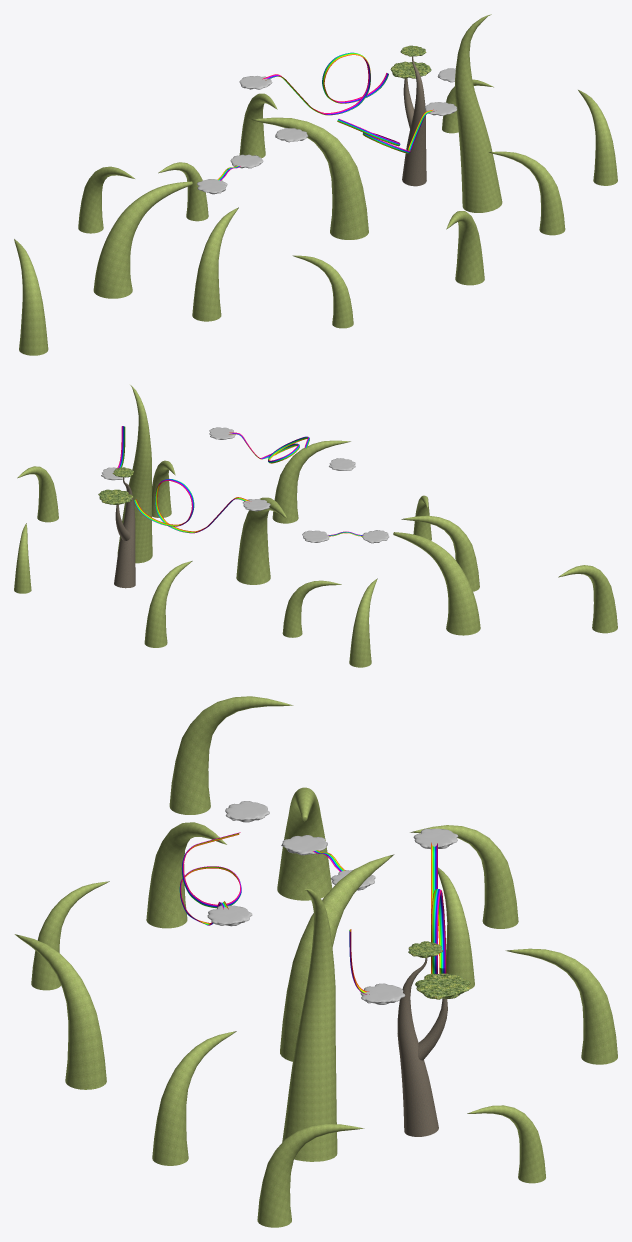
File: SacredSky.obj
3 views of the same model, one above another, from view 1: azimuth 30°, elevation 25°; view 2: azimuth 150°, elevation 25°; view 3: azimuth 270°, elevation 25° (orthographic). The views are drawn at different scales.
Size of the model in its own units: 14747 by 4316 by 8752.
Materials: 6 (6 with a texture image).
